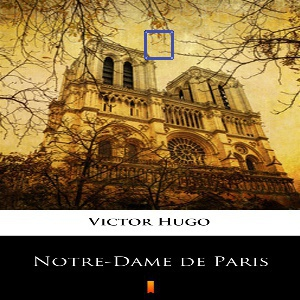square: (142, 28, 175, 61)
